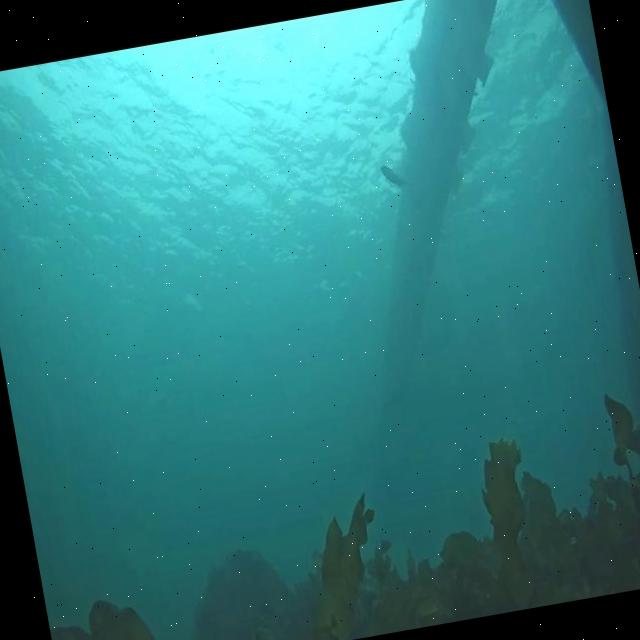fish: (380, 161, 411, 194)
